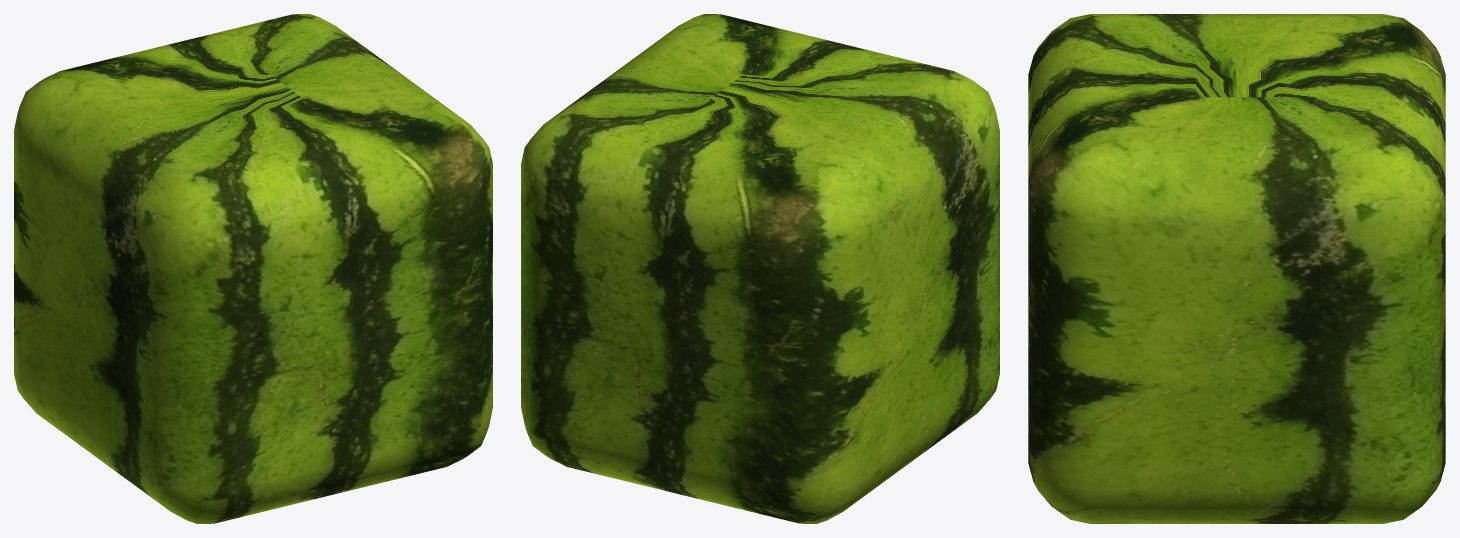
File: watermelon.obj
The picture shows the model from 3 angles, left to right: view 1: azimuth 30°, elevation 25°; view 2: azimuth 150°, elevation 25°; view 3: azimuth 270°, elevation 25°; orthographic projection. The views are drawn at different scales.
Size of the model in its own units: 1 by 1 by 1.
